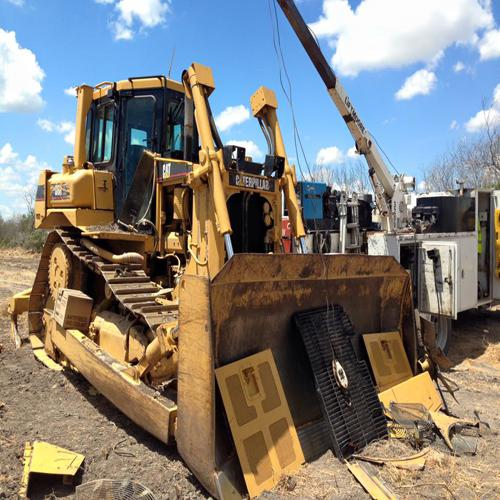con_eq: (15, 72, 444, 488)
